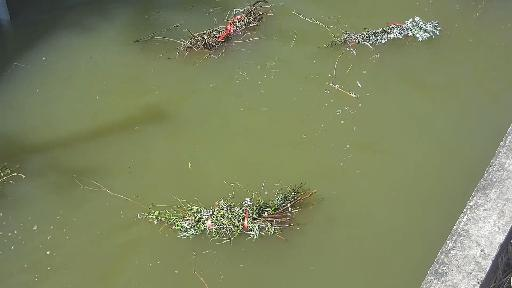twig: (68, 168, 333, 253), (293, 0, 425, 74), (165, 0, 273, 80), (0, 165, 35, 193)
